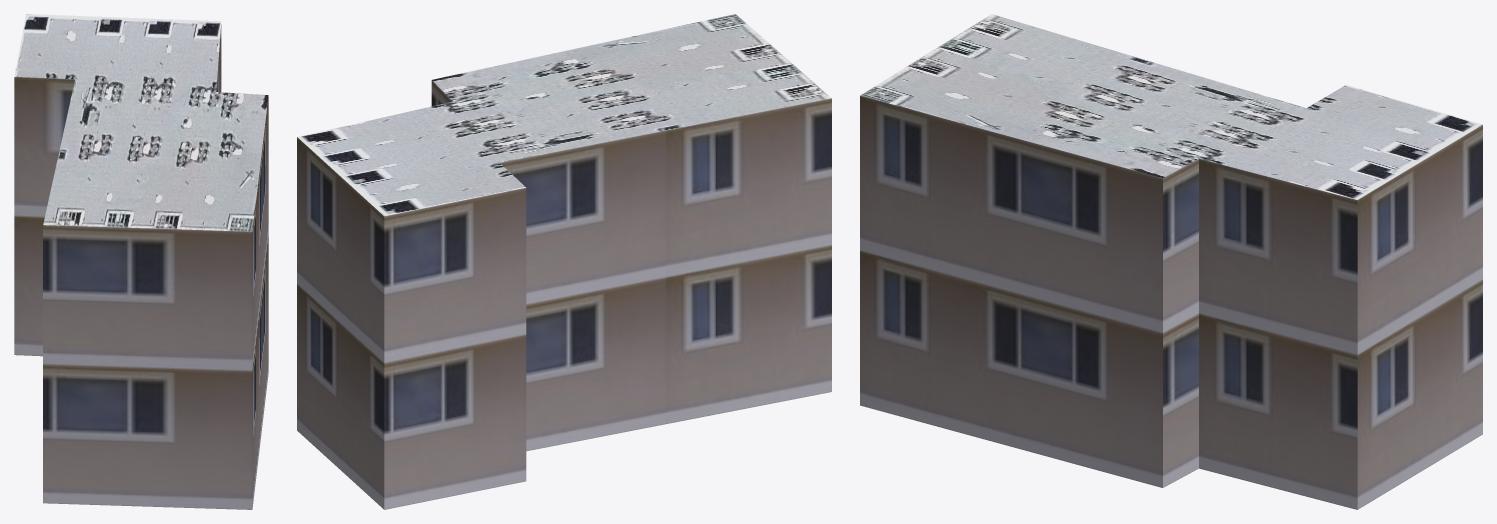
Rendered from ResTex__4246.fbx.
The picture shows the model from 3 angles, left to right: view 1: azimuth 30°, elevation 25°; view 2: azimuth 150°, elevation 25°; view 3: azimuth 270°, elevation 25°; orthographic projection. The views are drawn at different scales.
Visible parts, largest first — view 1: CityEngineMaterial_21_m, CityEngineMaterial_4_m; view 2: CityEngineMaterial_21_m, CityEngineMaterial_4_m; view 3: CityEngineMaterial_21_m, CityEngineMaterial_4_m.
Boxes of the visible parts, x1,y1,x2,y2 form: CityEngineMaterial_21_m: (14, 24, 268, 509); CityEngineMaterial_4_m: (14, 14, 268, 231); CityEngineMaterial_21_m: (297, 80, 831, 509); CityEngineMaterial_4_m: (297, 14, 831, 216); CityEngineMaterial_21_m: (860, 95, 1482, 509); CityEngineMaterial_4_m: (860, 14, 1482, 199).
Bounding box in the file's own units: 7.73 × 6 × 10.93.
Materials: 2 (2 with a texture image).
